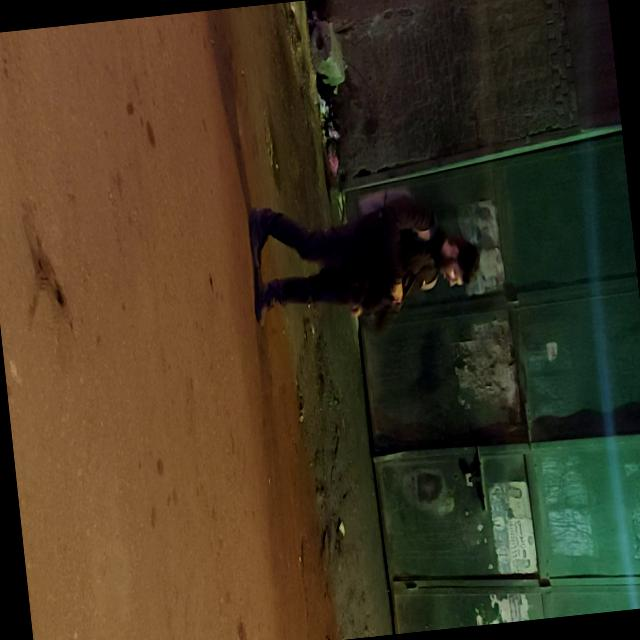long weapon: (363, 262, 433, 344)
